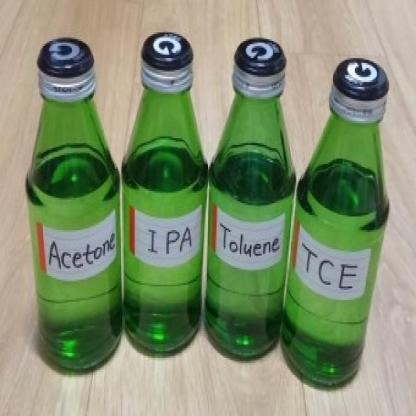Glass Bottle: (282, 58, 390, 386), (25, 38, 120, 369), (206, 37, 296, 358), (122, 33, 208, 351)
